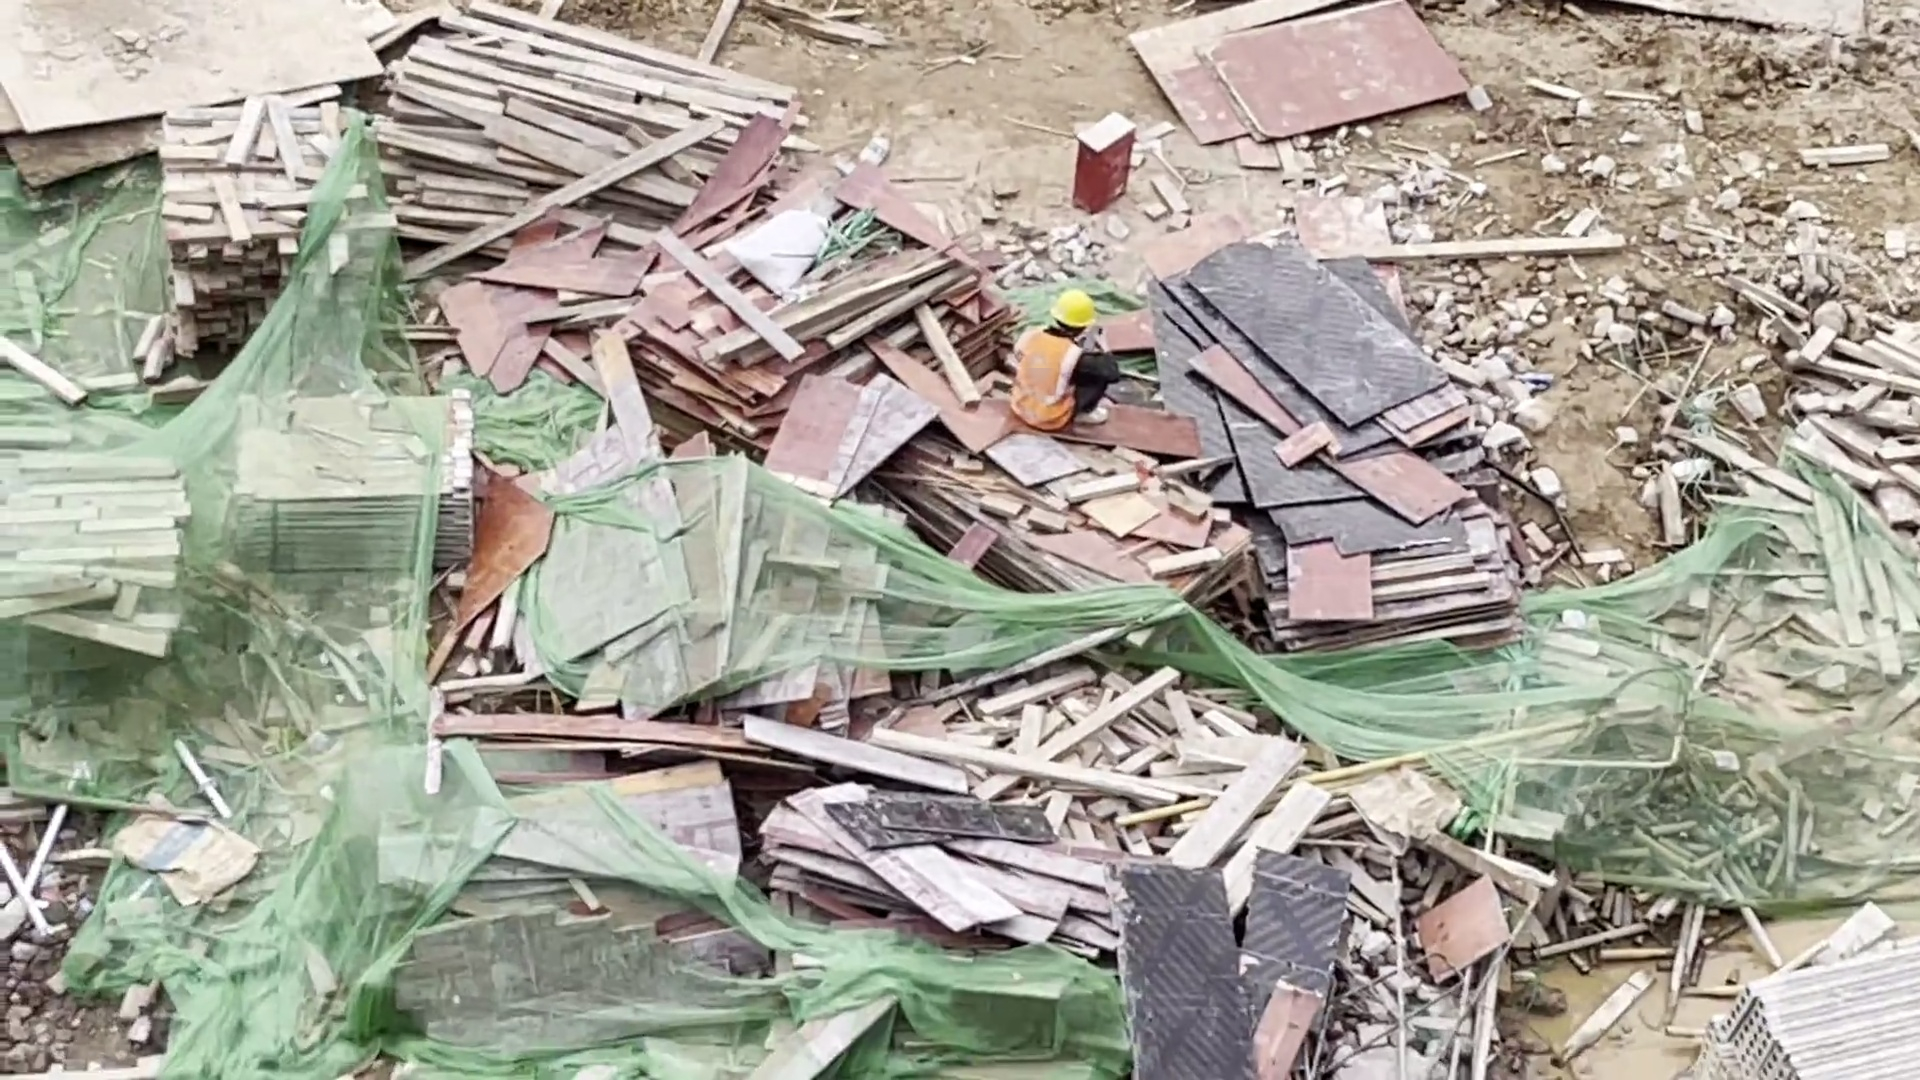board: (1182, 265, 1486, 650), (234, 407, 458, 570)
helmet: (1049, 285, 1089, 335)
person: (1007, 289, 1112, 434)
vest: (1015, 331, 1077, 427)
wood: (167, 111, 364, 329)
